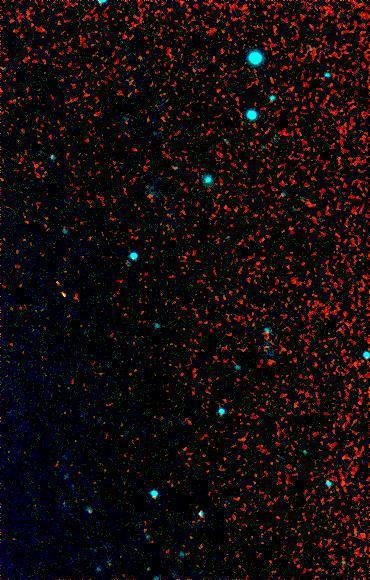star: (48, 280, 78, 310)
